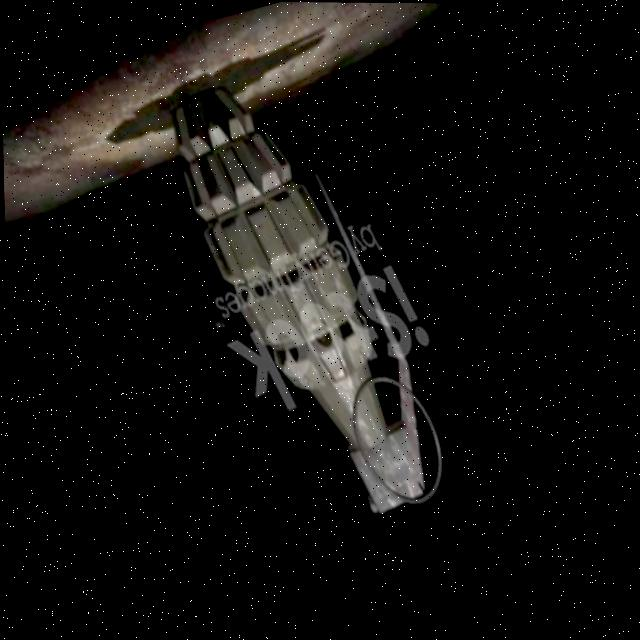grenade: (132, 40, 483, 567)
